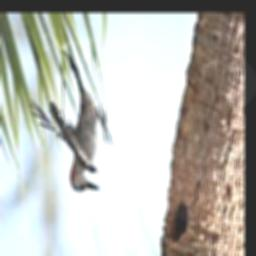Woodpecker: (28, 51, 113, 191)
